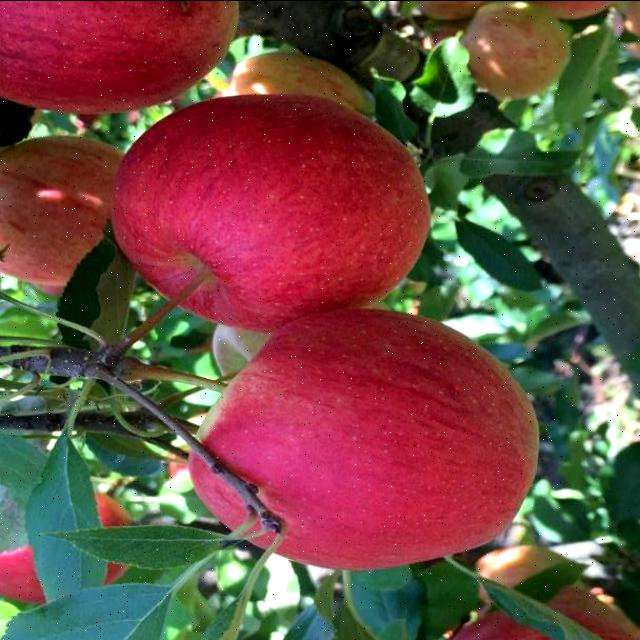HEALTHY: (83, 59, 482, 305)
SCAB: (161, 322, 577, 586)
